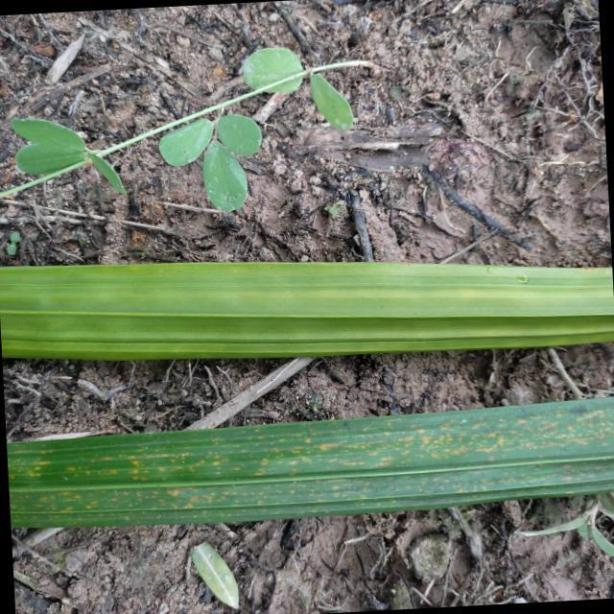nitrogen: (6, 395, 614, 526), (3, 258, 614, 361)
